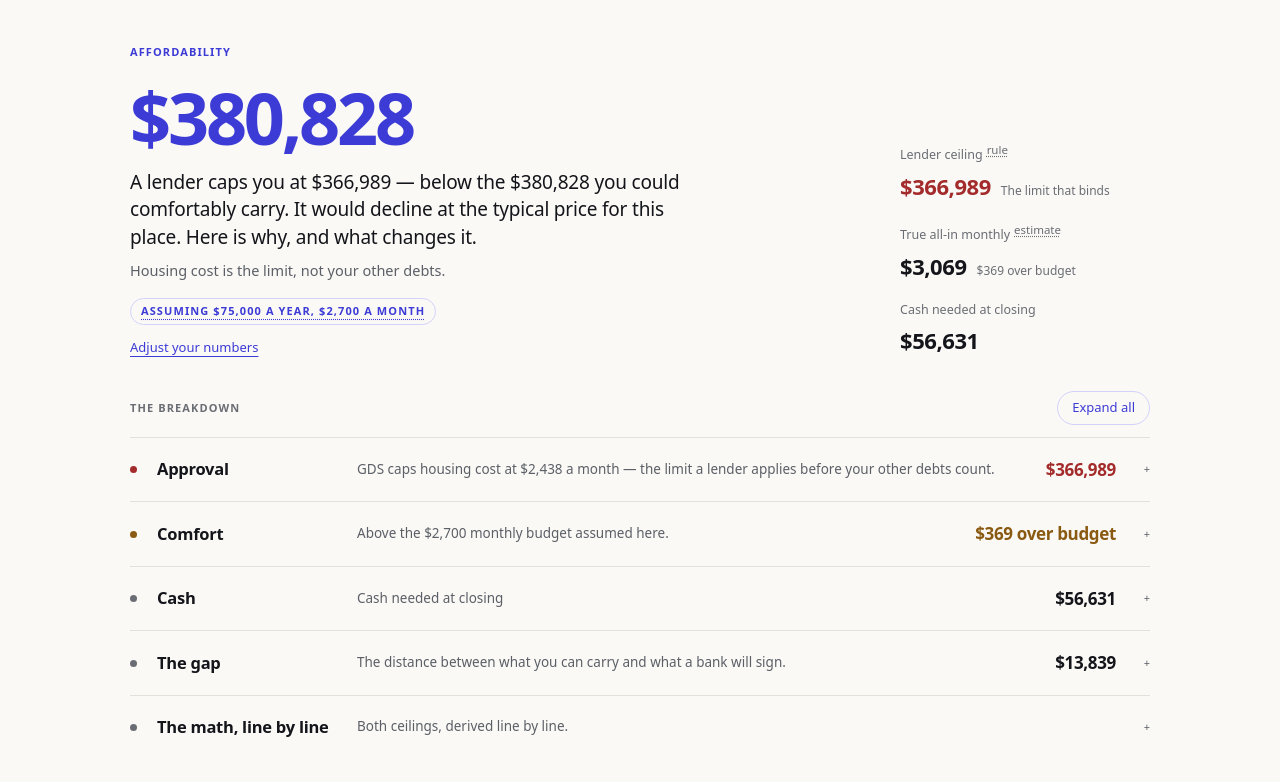
it: Affordability — one disclosure gesture › offers to expand until there is nothing left to expand
Click the button "Expand all" at [1104, 408], box [1057,391,1150,425]
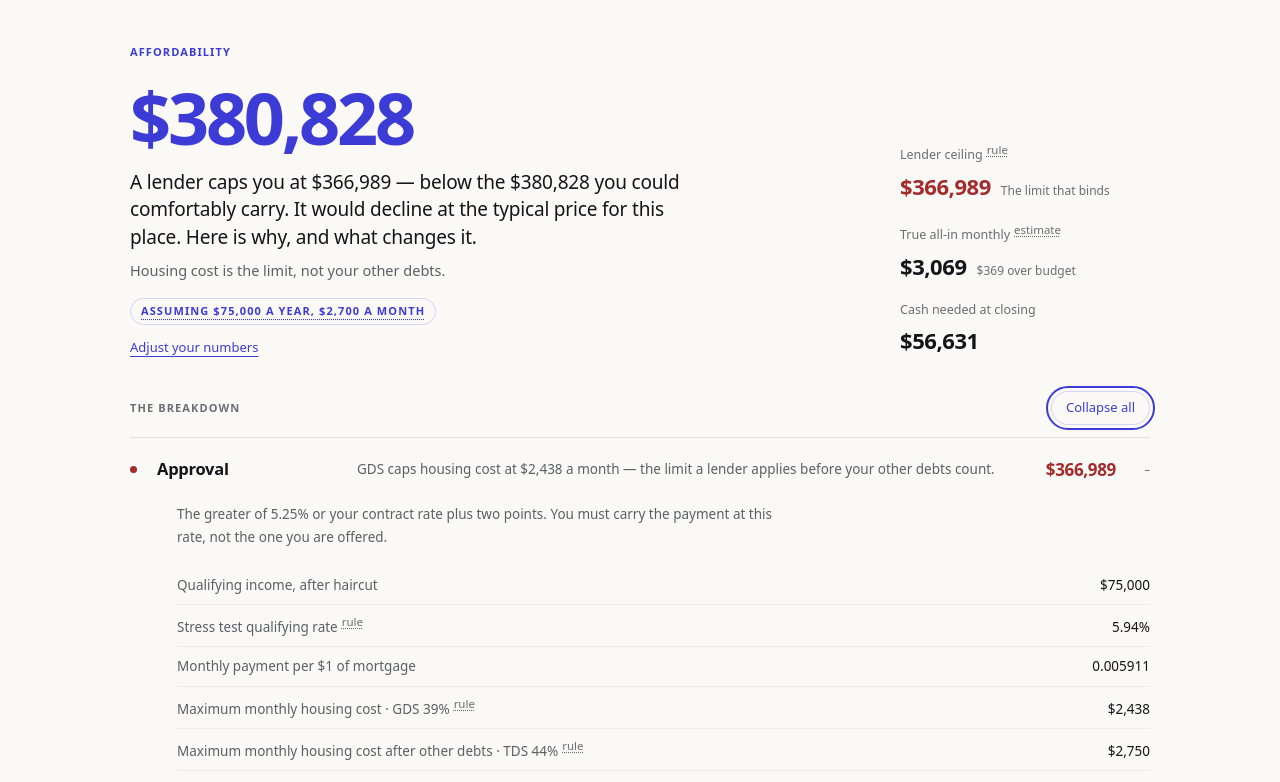
expect the button "Collapse all" is shown: met, box [1051,391,1150,425]
